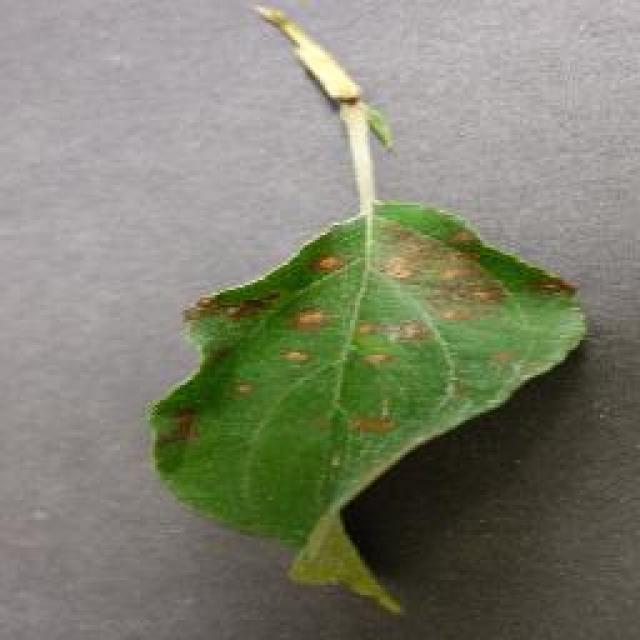apple cedar apple rust: (145, 0, 587, 615)
